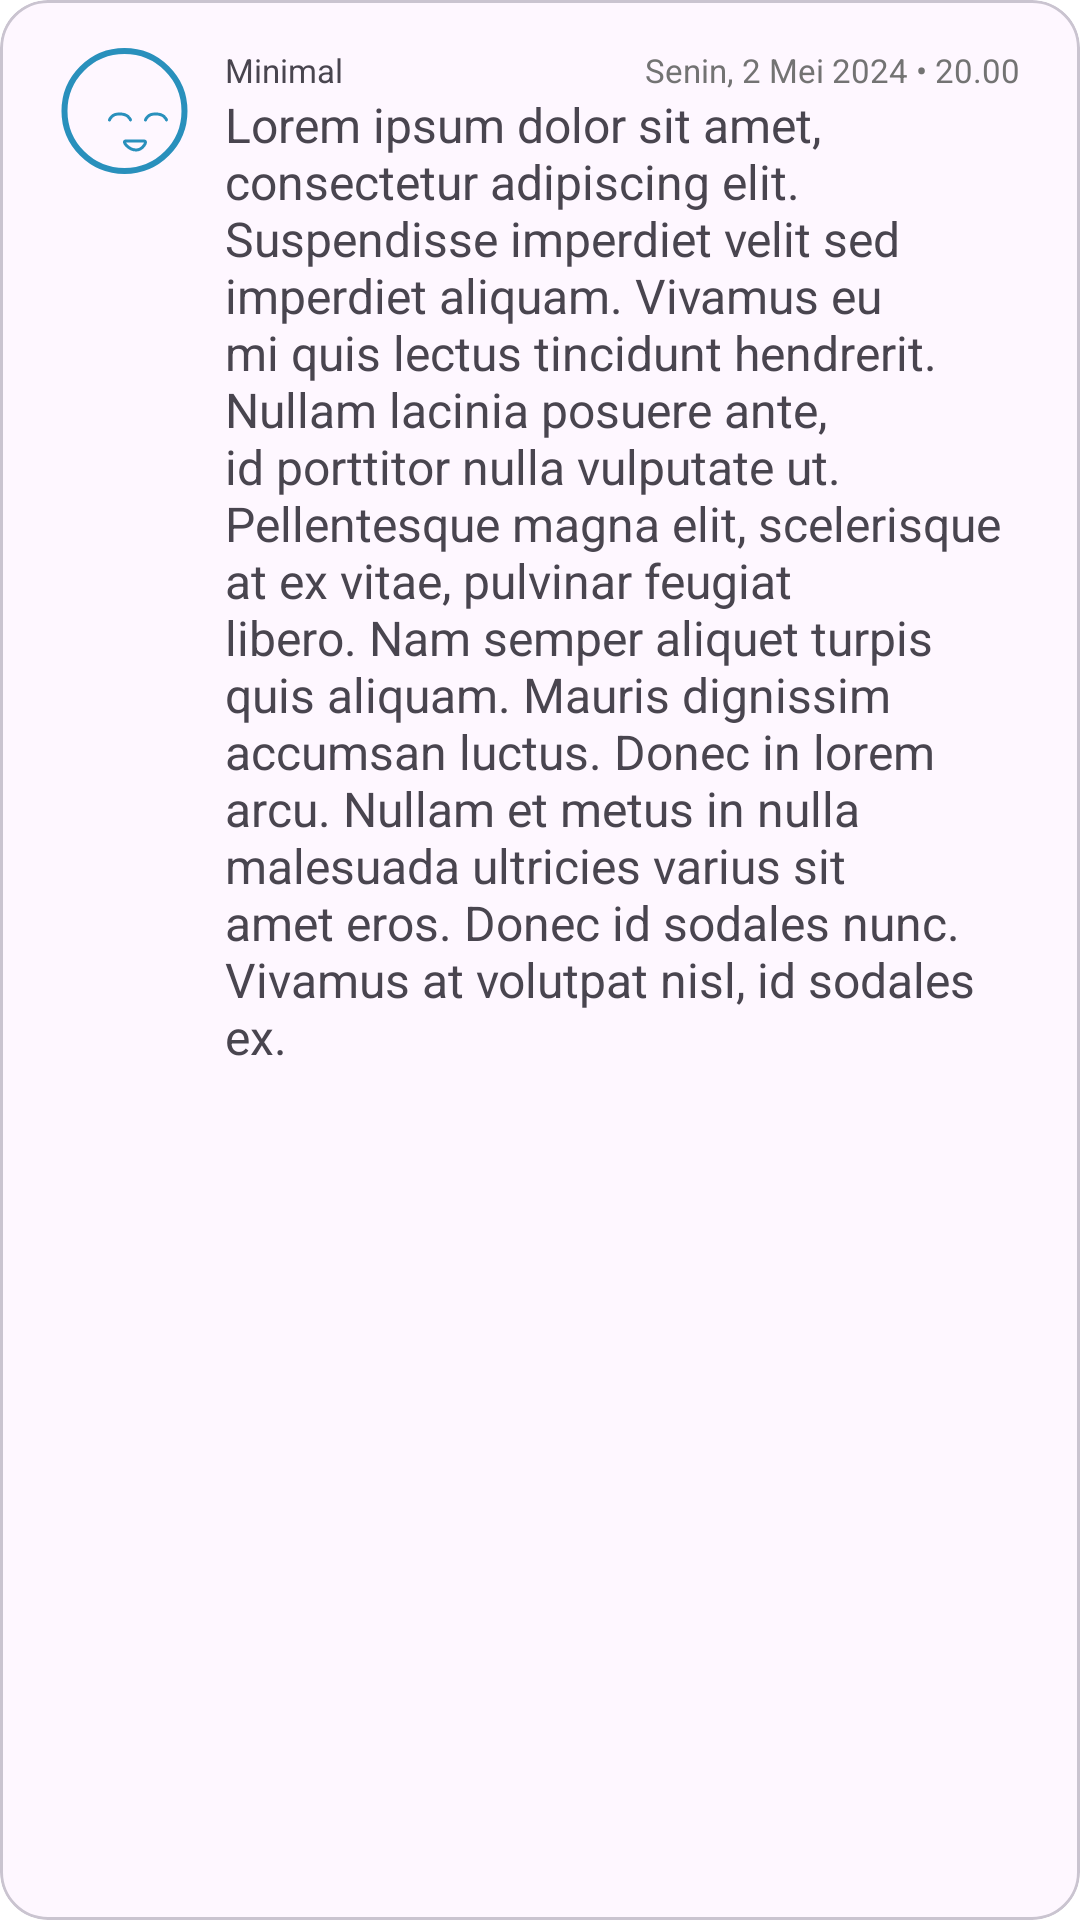

Screen size 1080px×1920px. Icon name, then its box in pixels as bbox=(x1, y1, x2, y2):
mood sangat baik: bbox=(61, 48, 188, 174)
